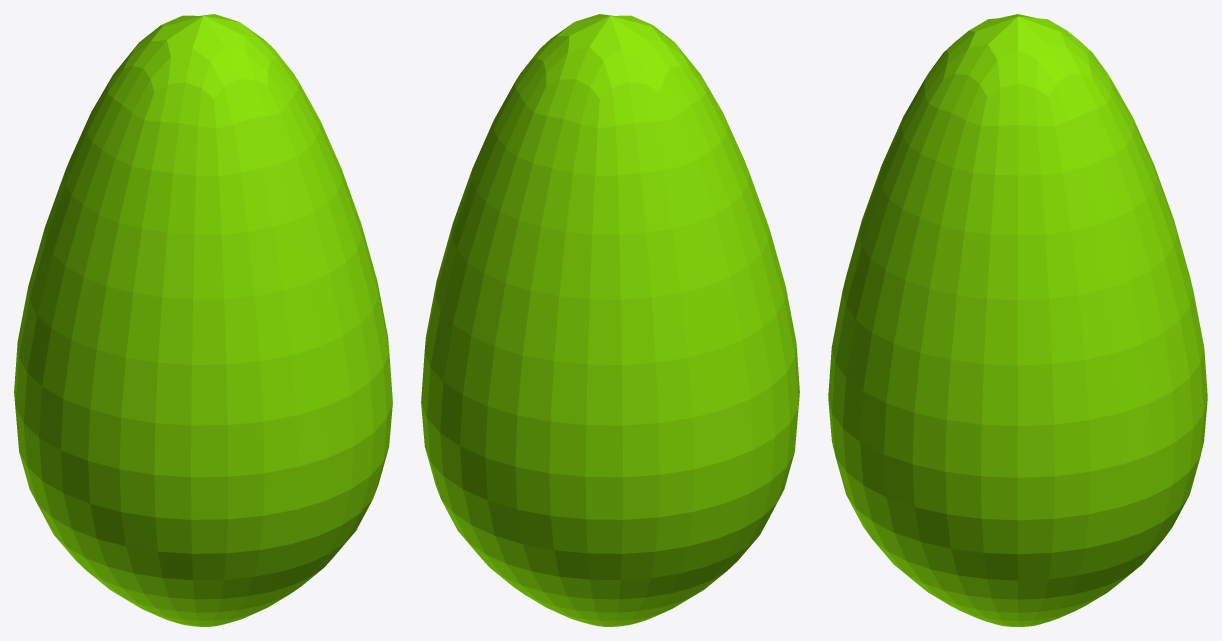
File: slimeKopetSplash.fbx
The picture shows the model from 3 angles, left to right: view 1: azimuth 30°, elevation 25°; view 2: azimuth 150°, elevation 25°; view 3: azimuth 270°, elevation 25°; orthographic projection.
Parts seen in each view (by area): view 1: SpitSplash; view 2: SpitSplash; view 3: SpitSplash.
Part boxes in pixels (left/top/right/bottom): SpitSplash: left=14, top=14, right=392, bottom=626; SpitSplash: left=421, top=14, right=799, bottom=626; SpitSplash: left=828, top=14, right=1207, bottom=626.
Bounding box in the file's own units: 1.63 × 2.85 × 1.63.
